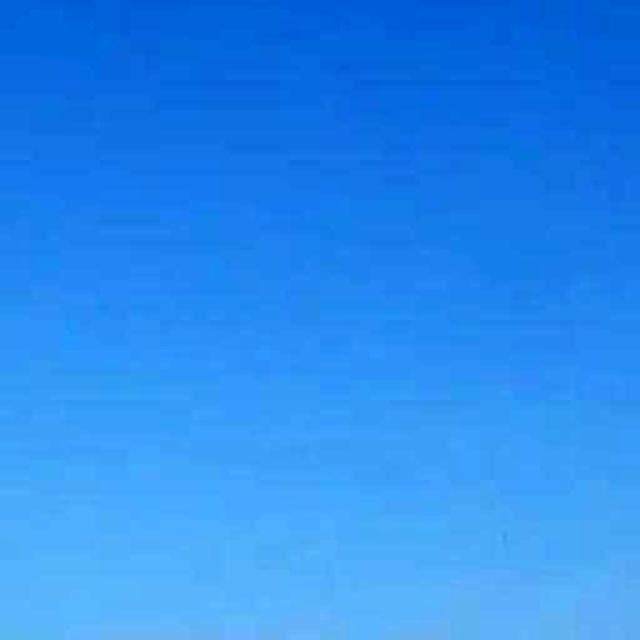drone: (474, 498, 540, 579)
